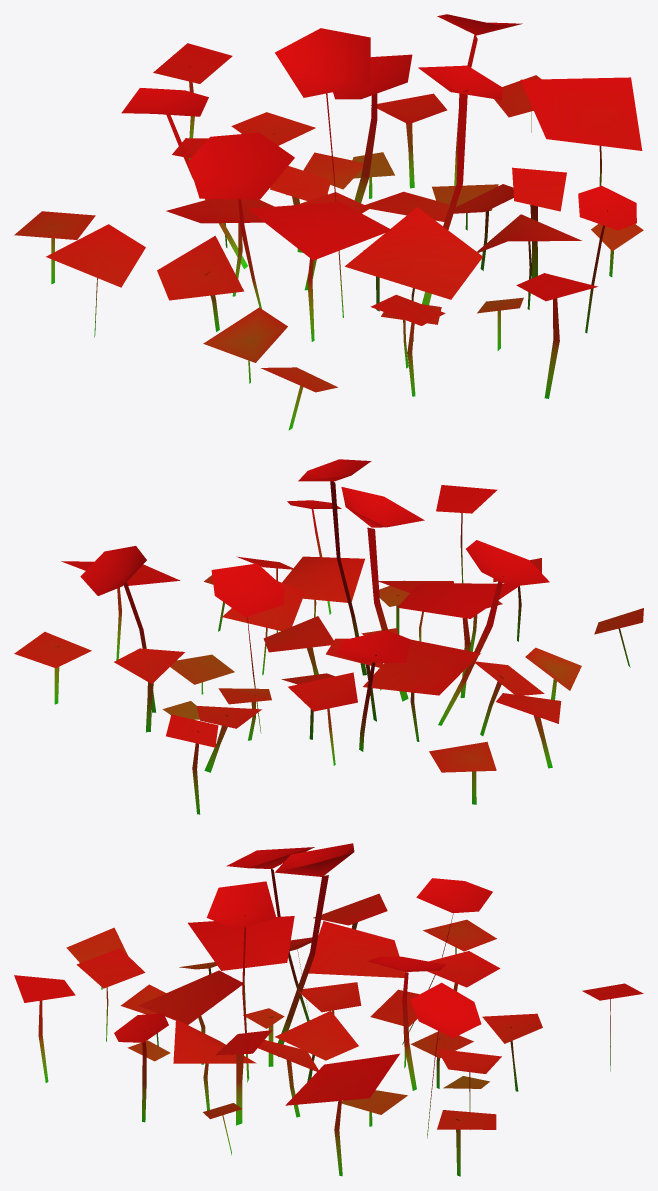
Rendered from Var7_LOD2.fbx.
3 views of the same model, one above another, from view 1: azimuth 30°, elevation 25°; view 2: azimuth 150°, elevation 25°; view 3: azimuth 270°, elevation 25° (orthographic). The views are drawn at different scales.
Visible parts, largest first — view 1: _0741_Var7_LOD2; view 2: _0741_Var7_LOD2; view 3: _0741_Var7_LOD2.
Boxes of the visible parts, left/top/right/bottom form: _0741_Var7_LOD2: left=14, top=14, right=643, bottom=430; _0741_Var7_LOD2: left=14, top=459, right=643, bottom=814; _0741_Var7_LOD2: left=14, top=843, right=643, bottom=1176.
Bounding box in the file's own units: 46.46 × 19.66 × 51.43.
